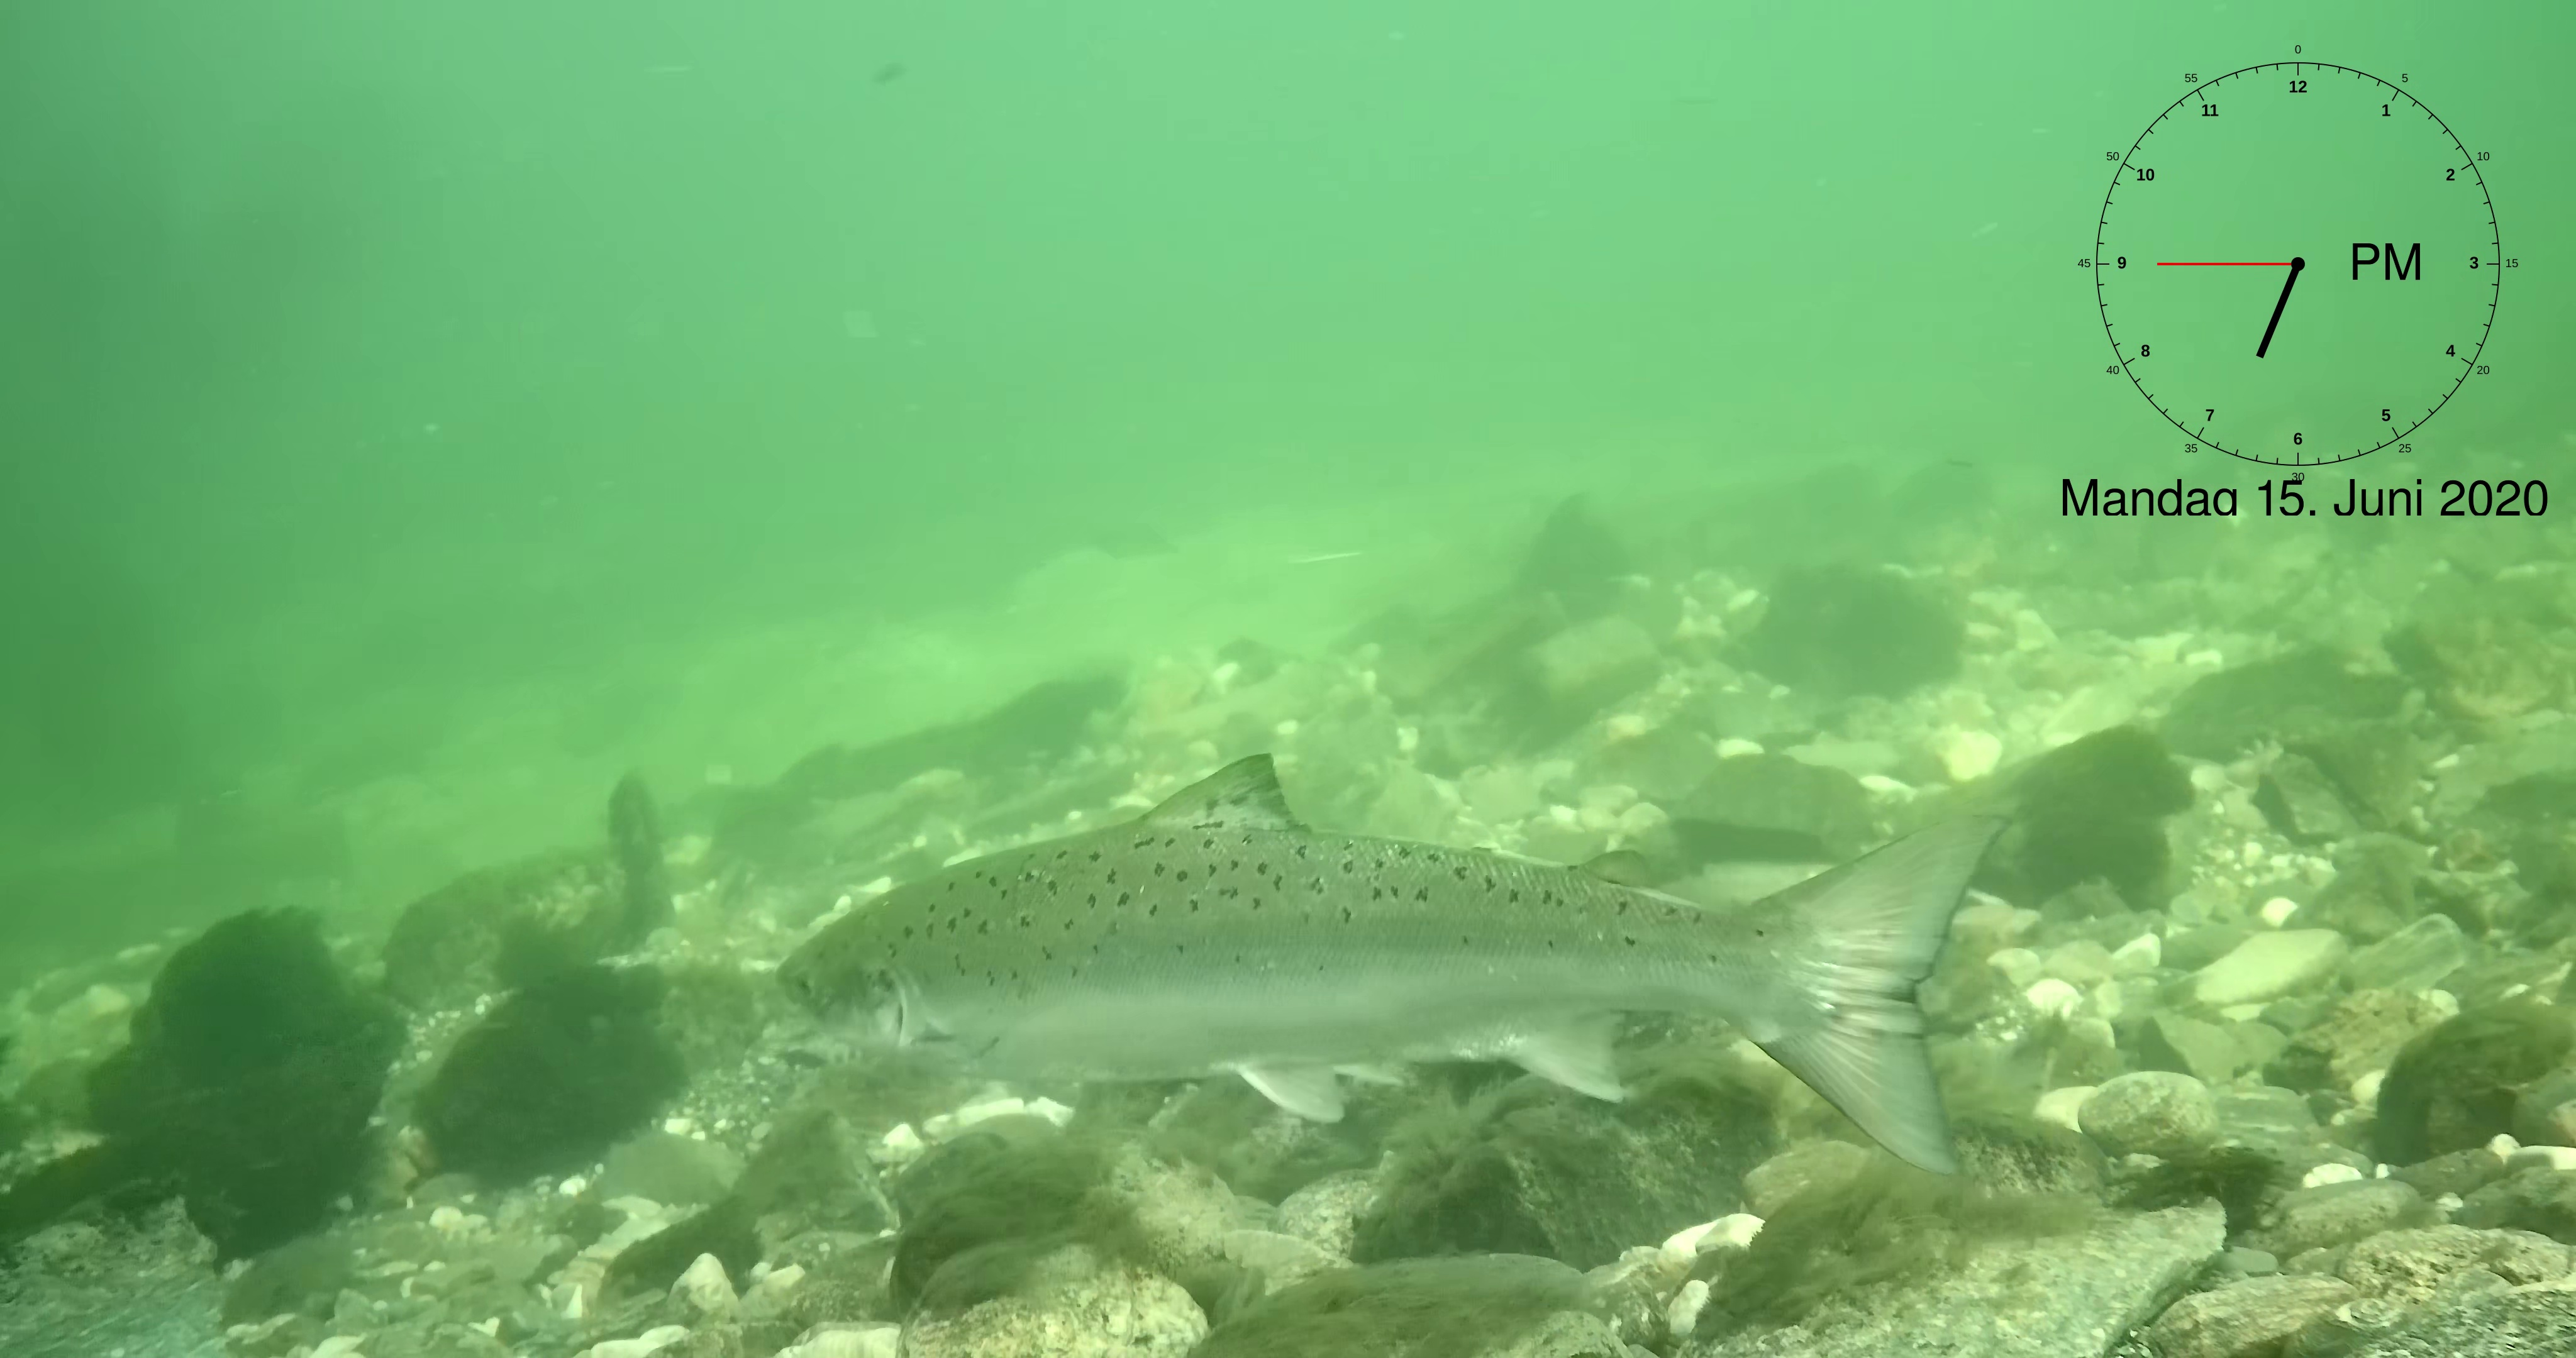salmon: (772, 751, 2017, 1176)
